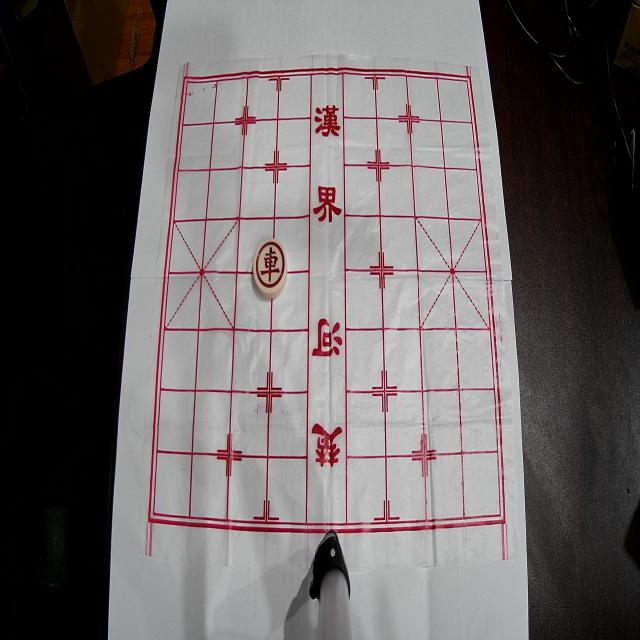red-chariot: (253, 238, 287, 299)
